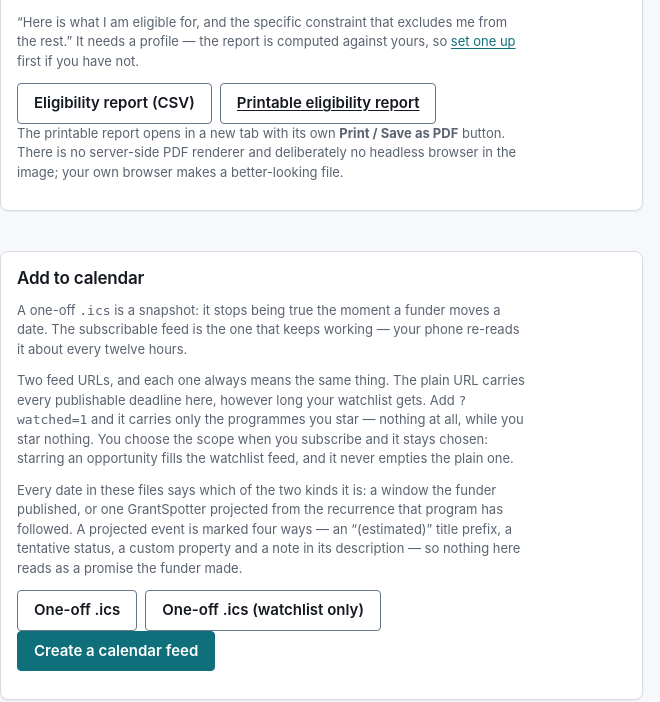
Scenario: ExportsRoute › what actually lands on disk › does not write an empty calendar, and says why there was nothing to write
(page scrolled)
Click the button "One-off .ics (watchlist only)" at point(263, 611), box 145,590 -> 381,631
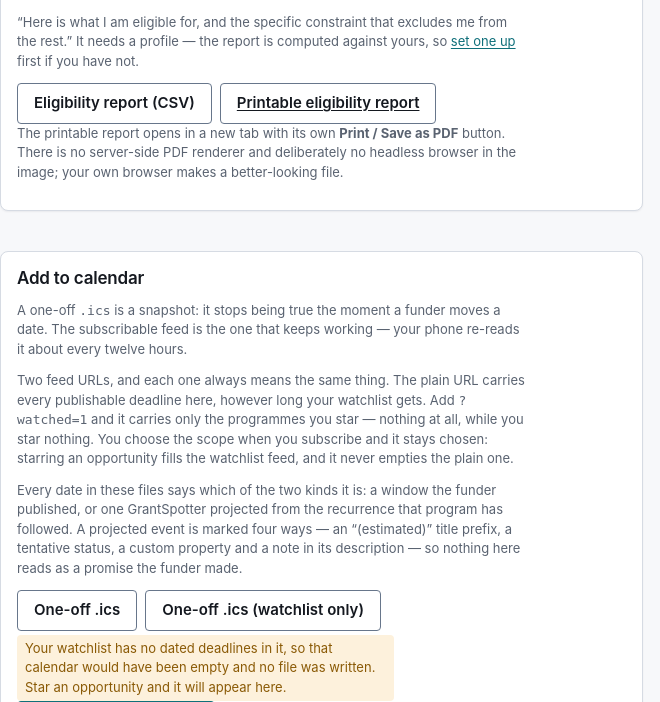
Now the text "watchlist has no dated deadlines" shows "so that calendar would have been empty and no file was written", box 25,640 -> 375,695
Note: ...and the plain feed, which has dates in it, still saves and still reports what it saved.
Click the button "One-off .ics" at point(77, 611), box 17,590 -> 137,631
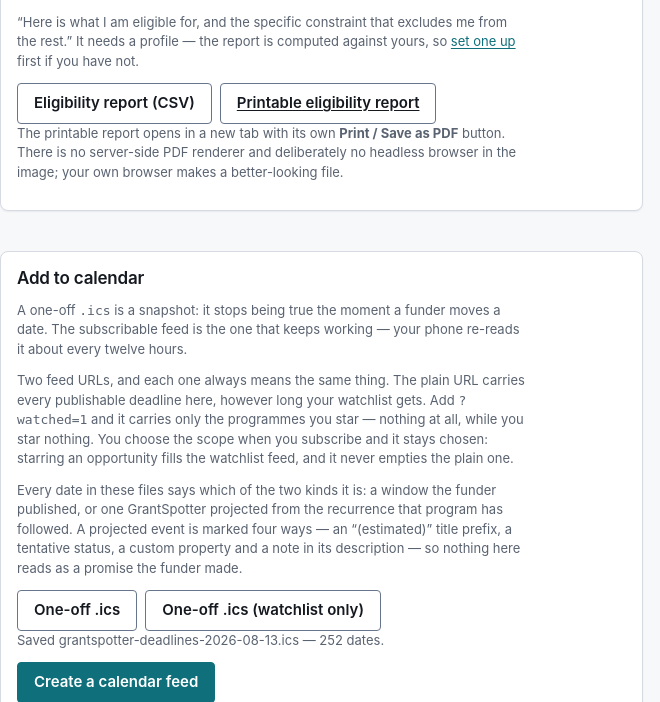
Now the text "Saved grantspotter-deadlines-2026-08-13.ics — 252 dates." is shown, box 17,632 -> 384,648
